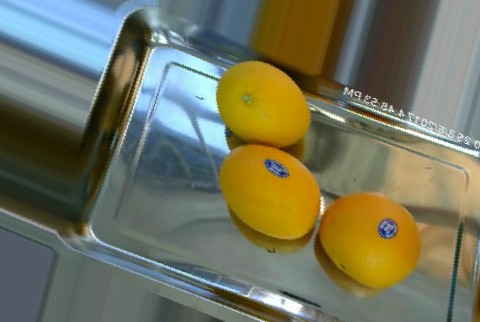Orange: (318, 188, 423, 287), (219, 144, 322, 241), (216, 59, 313, 147)
